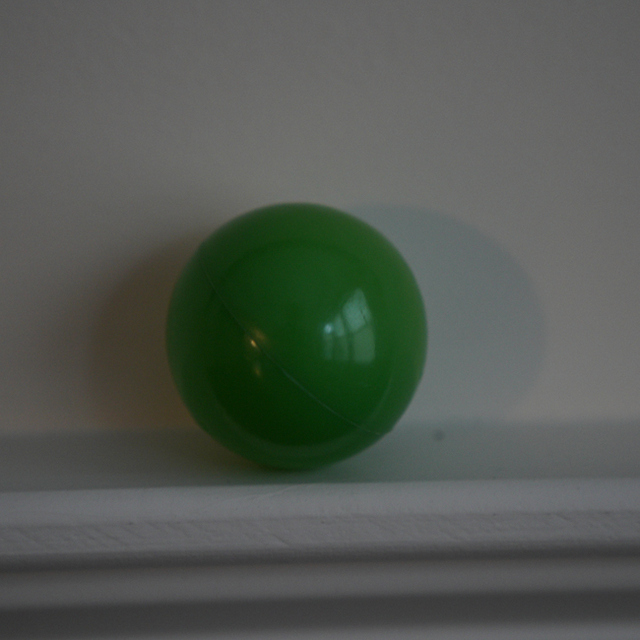Ball: (160, 201, 429, 471)
